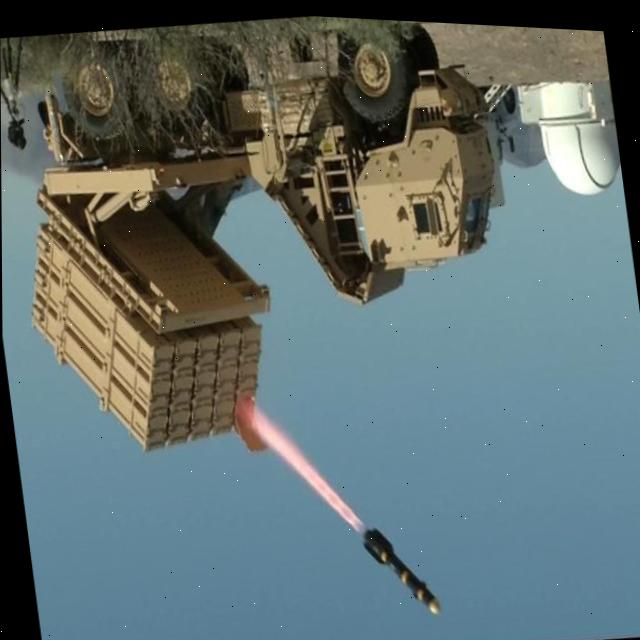missile: (358, 511, 445, 616)
